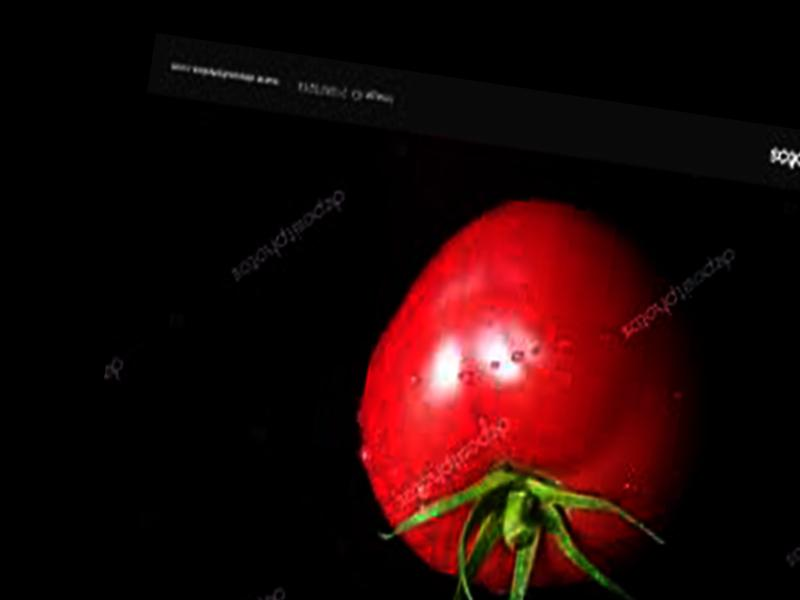Tomato: (334, 177, 732, 600)
